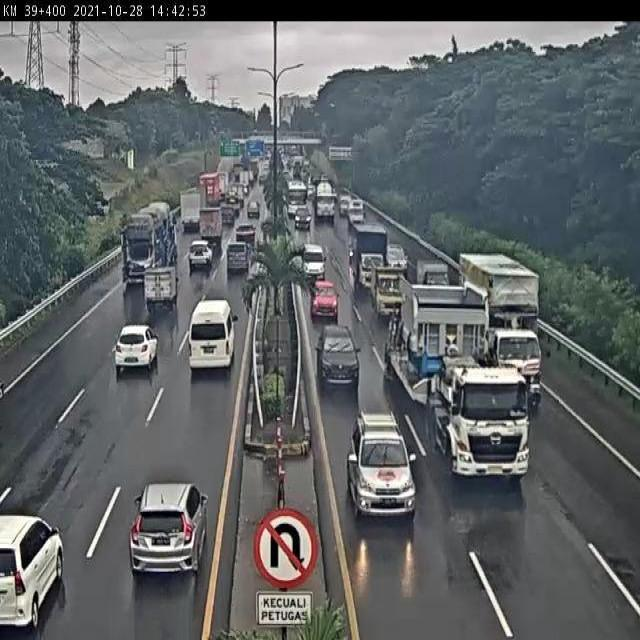car: (127, 480, 211, 576), (349, 412, 418, 521), (0, 520, 62, 628), (317, 327, 362, 397), (192, 292, 233, 359), (114, 325, 156, 375), (309, 280, 338, 319), (387, 241, 409, 280), (188, 241, 212, 272), (226, 240, 249, 272)
truck: (388, 287, 531, 477), (462, 255, 541, 408), (127, 202, 180, 286), (353, 223, 387, 288), (143, 265, 179, 312), (375, 274, 410, 318), (418, 257, 452, 287), (301, 244, 326, 280)
